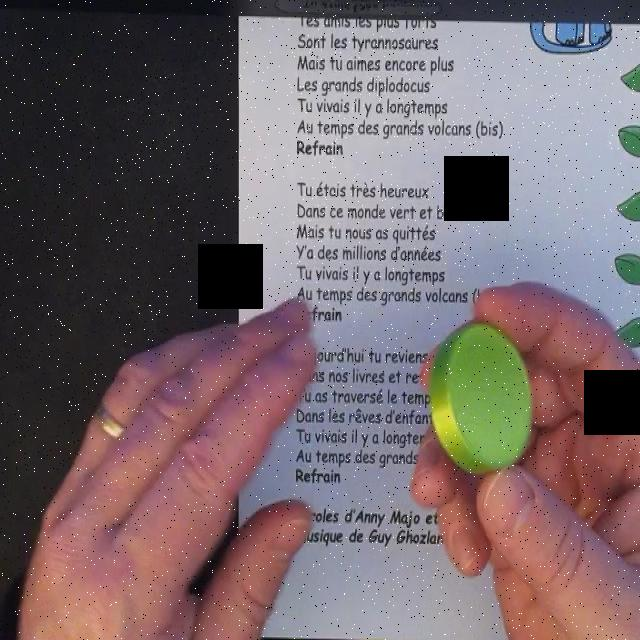round: (431, 322, 533, 473)
